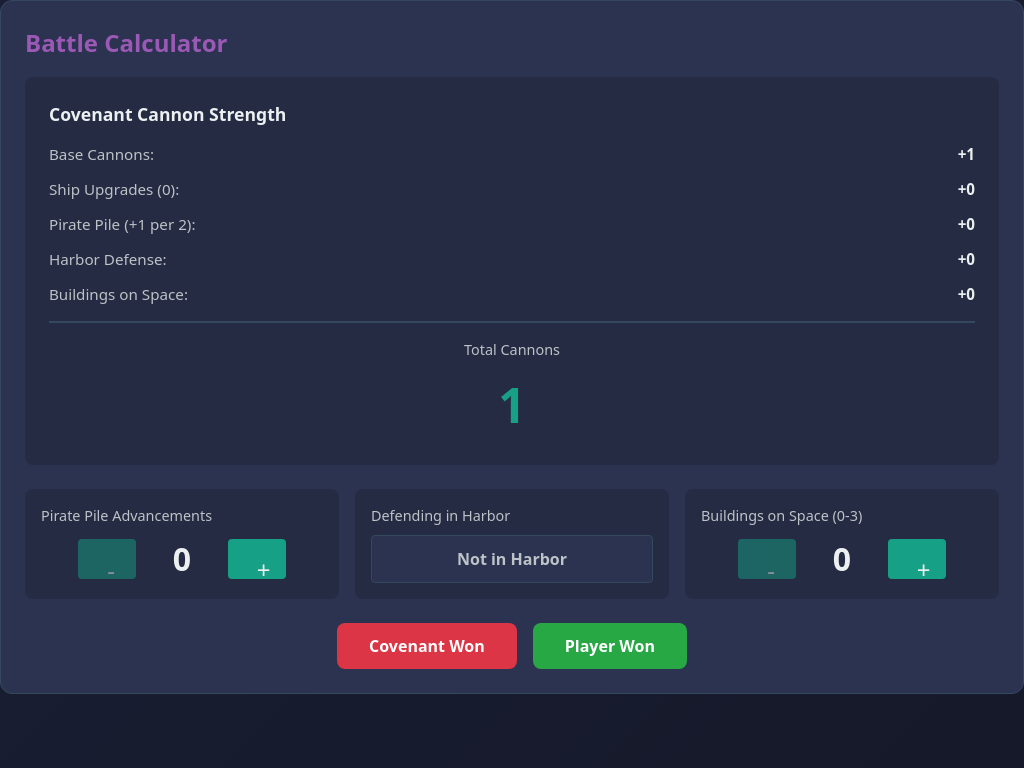
Test: BattleCalculator › Cannon Calculation › includes harbor defense when enabled
This screenshot has width=1024, height=768.
Click the button "Not in Harbor" at (512, 559), box [371, 535, 653, 583]
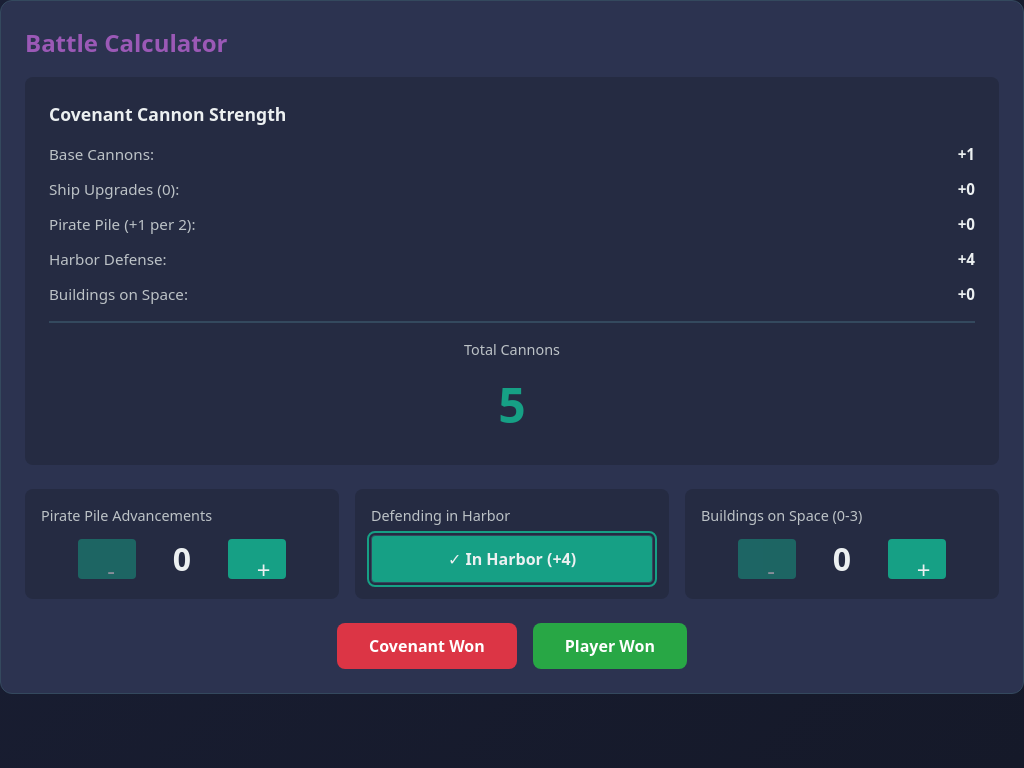
Expected: the text "Covenant Cannon Strength" shows "+4", [25, 77, 999, 465]
Expected: the text "Covenant Cannon Strength" shows "5", [498, 372, 526, 437]
